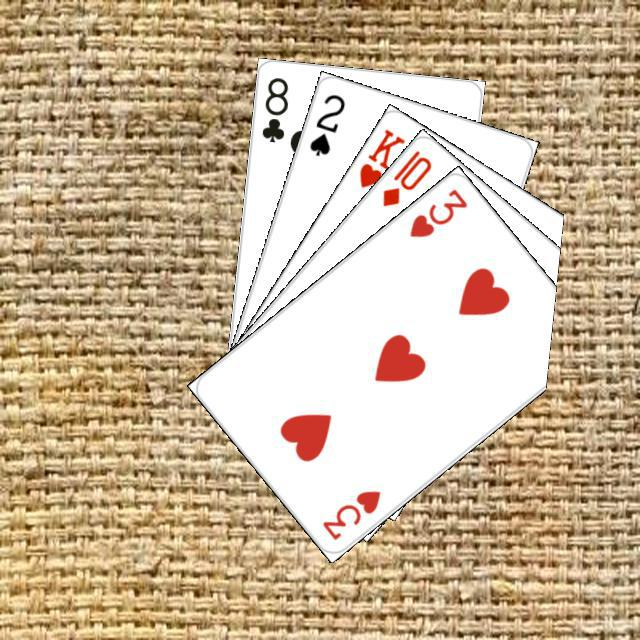10d: (377, 145, 434, 208)
2s: (304, 89, 347, 158)
3h: (404, 183, 470, 240), (317, 485, 383, 542)
8c: (257, 72, 290, 145)
Kh: (354, 124, 409, 204)
